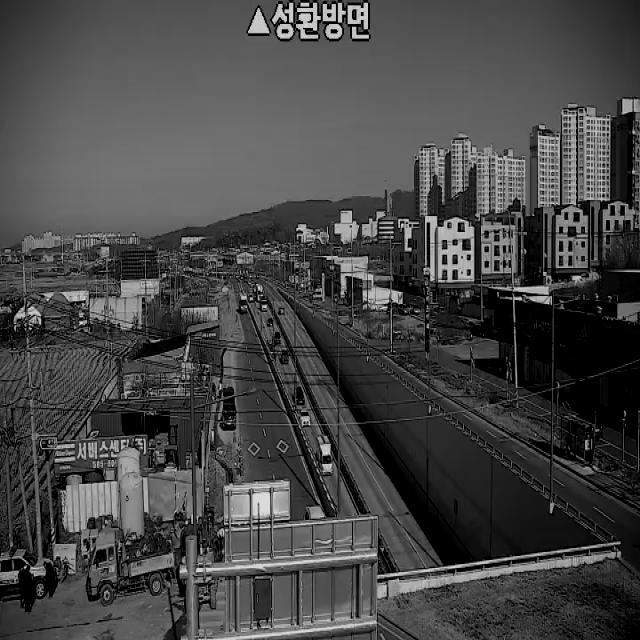Car: (0, 546, 57, 601), (572, 414, 602, 442), (304, 506, 326, 520), (299, 407, 311, 426), (296, 386, 305, 404), (260, 299, 268, 312), (274, 331, 280, 344), (267, 318, 273, 326), (278, 306, 284, 314)
Truck: (86, 526, 175, 607), (178, 504, 222, 617), (316, 435, 334, 476), (222, 385, 235, 429), (255, 284, 265, 302), (240, 292, 248, 314)
